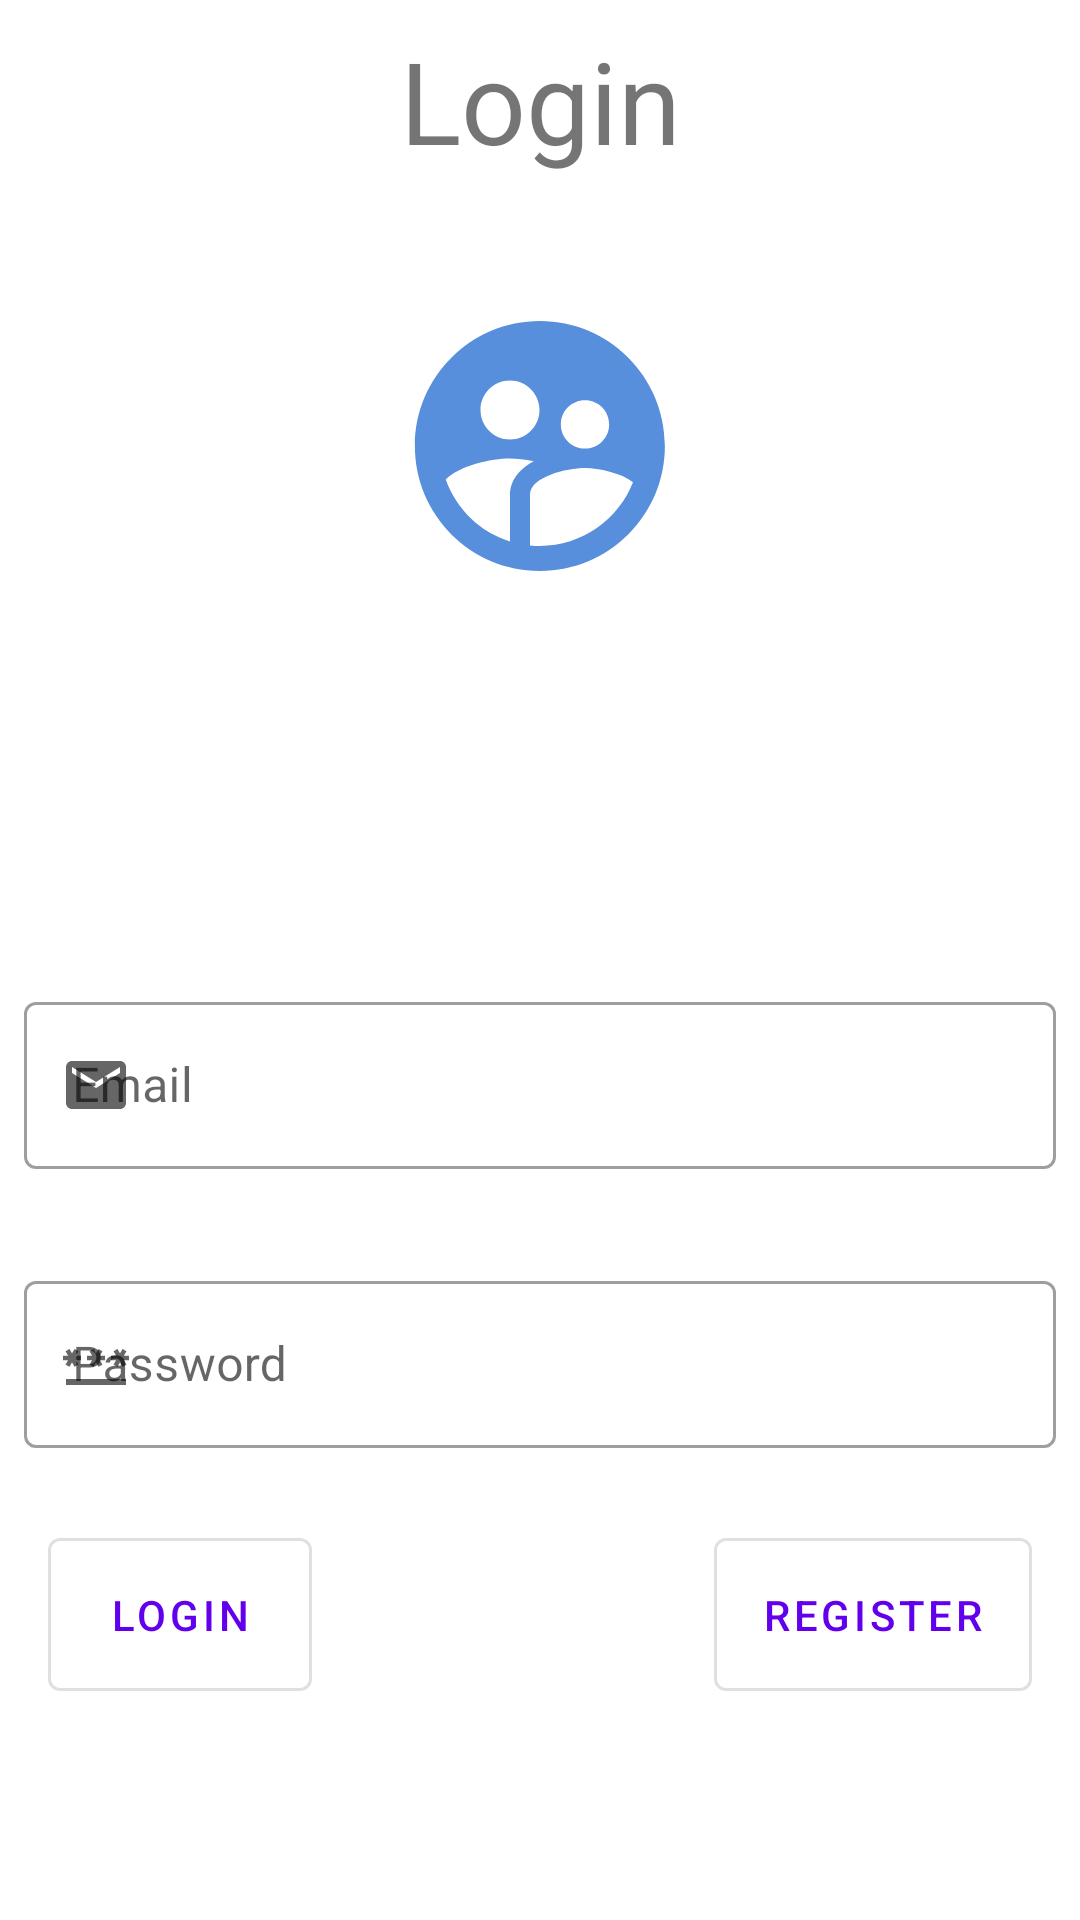

Screen size 1080 x 1920. Icon name, then its box in pixels as (x1, y1, x2, y2):
supervised user circle: (414, 321, 665, 571)
